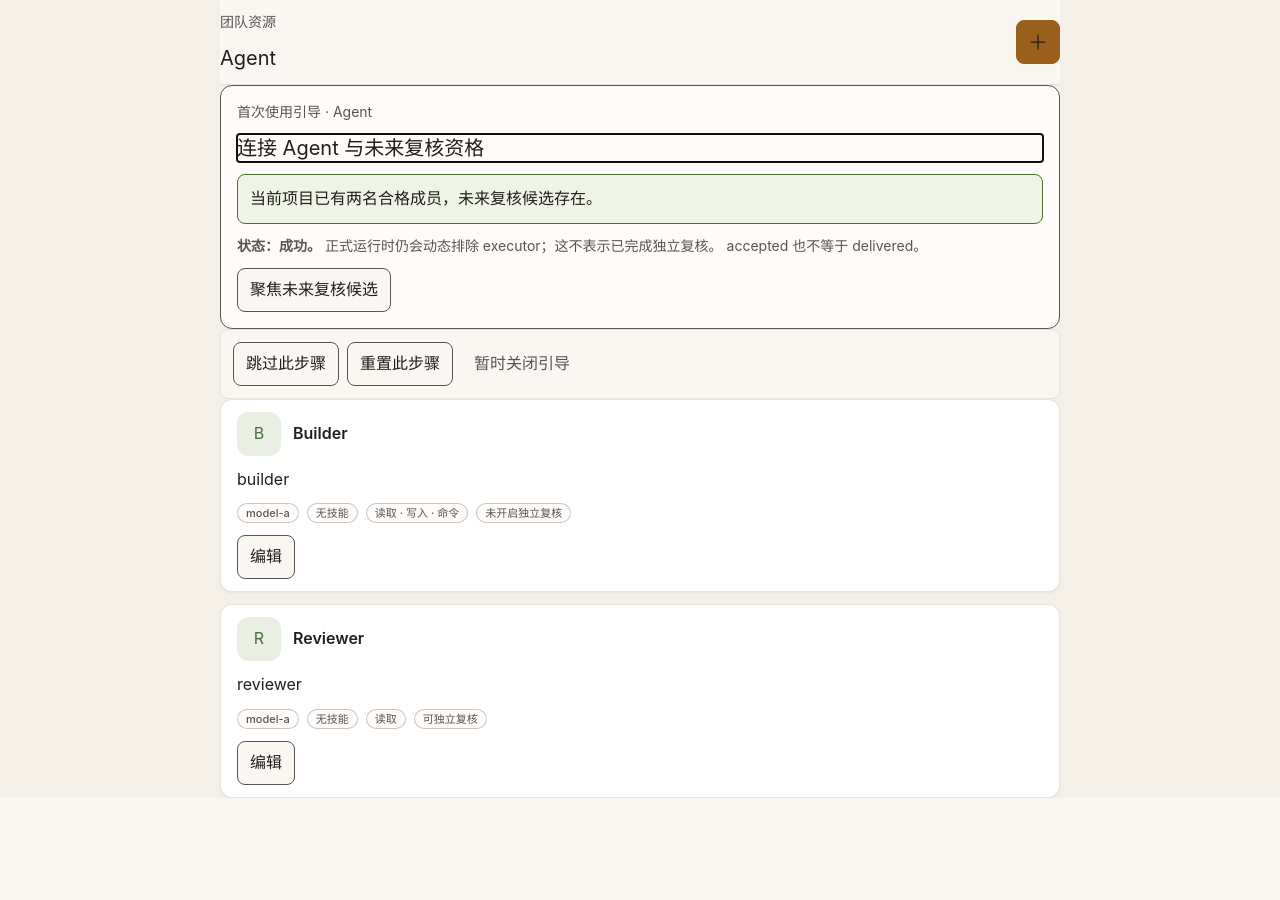
progressive onboarding T-5 Agent join › reconciles an uncertain Agent edit by GET without automatically resending it
Check: the text "当前项目已有两名合格成员，未来复核候选存在。" is shown, box x1=237 y1=174 x2=1043 y2=224
Click the button with aria-label "编辑 Reviewer": click(266, 763) x1=237 y1=741 x2=295 y2=785
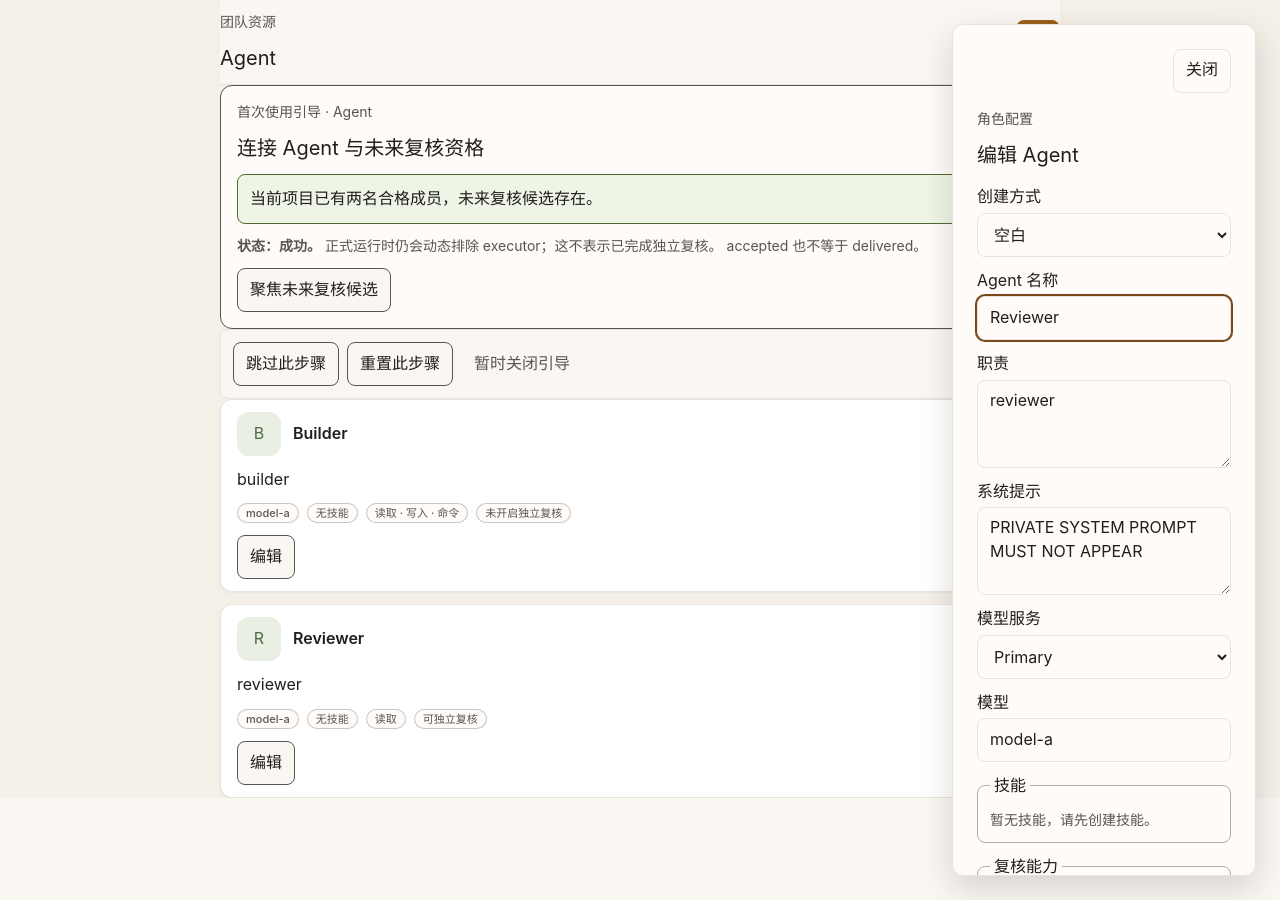
Replace the text in the text box labelled "职责" with "independent reviewer": (1104, 424) x1=977 y1=380 x2=1231 y2=468
(page scrolled)
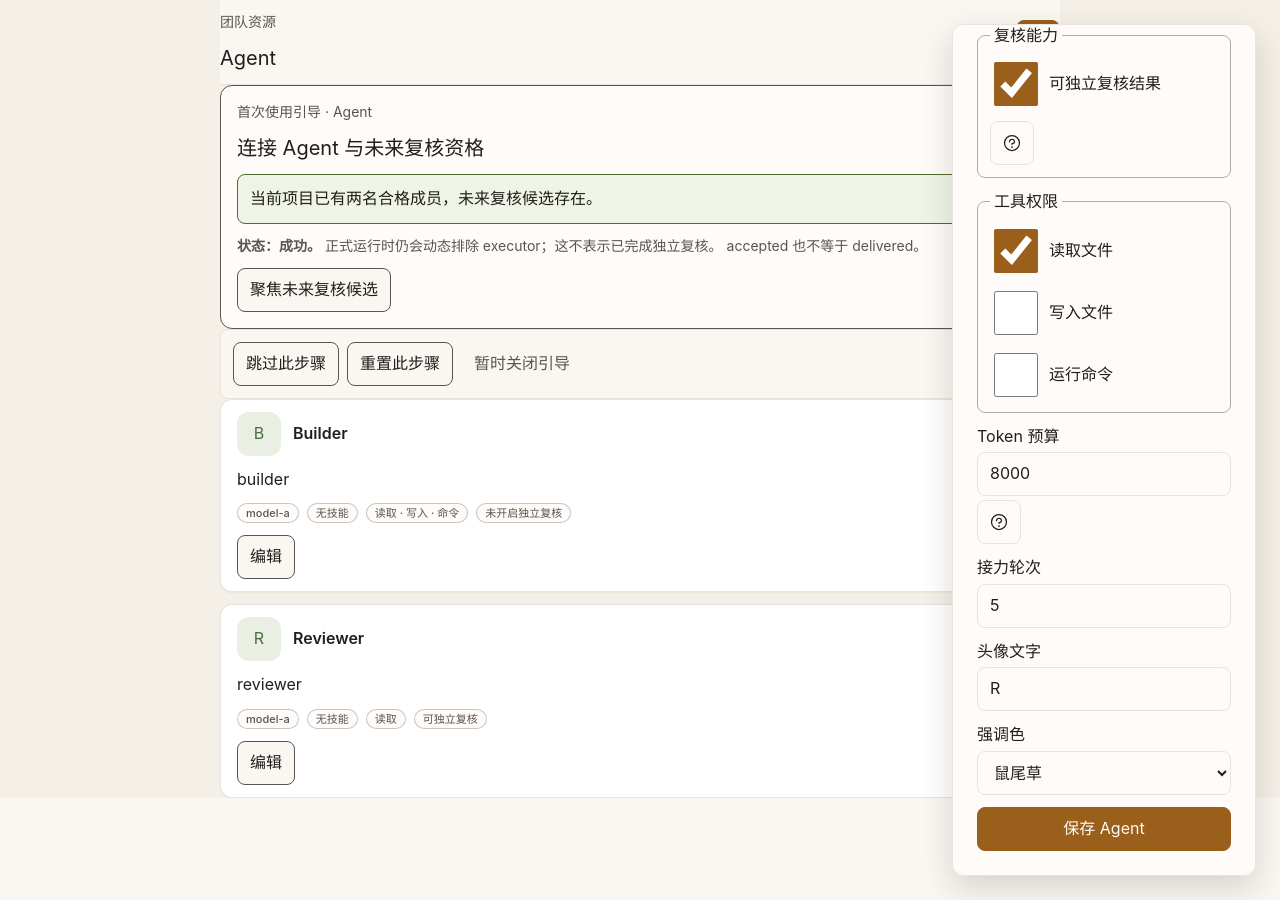
Click the button "保存 Agent": click(1104, 829) x1=977 y1=807 x2=1231 y2=851
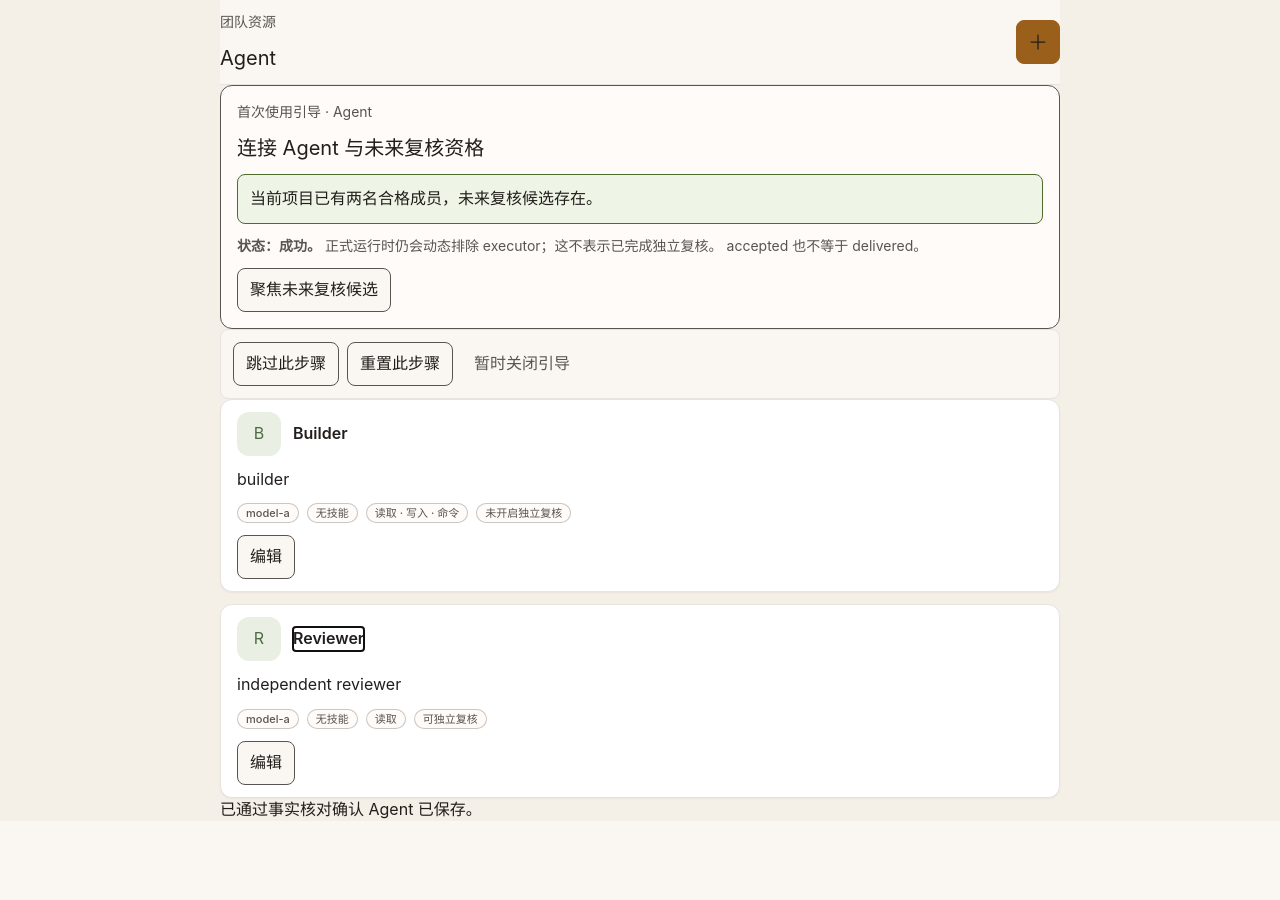
Check: the text "已通过事实核对确认 Agent 已保存。" is shown, box x1=220 y1=799 x2=482 y2=819
